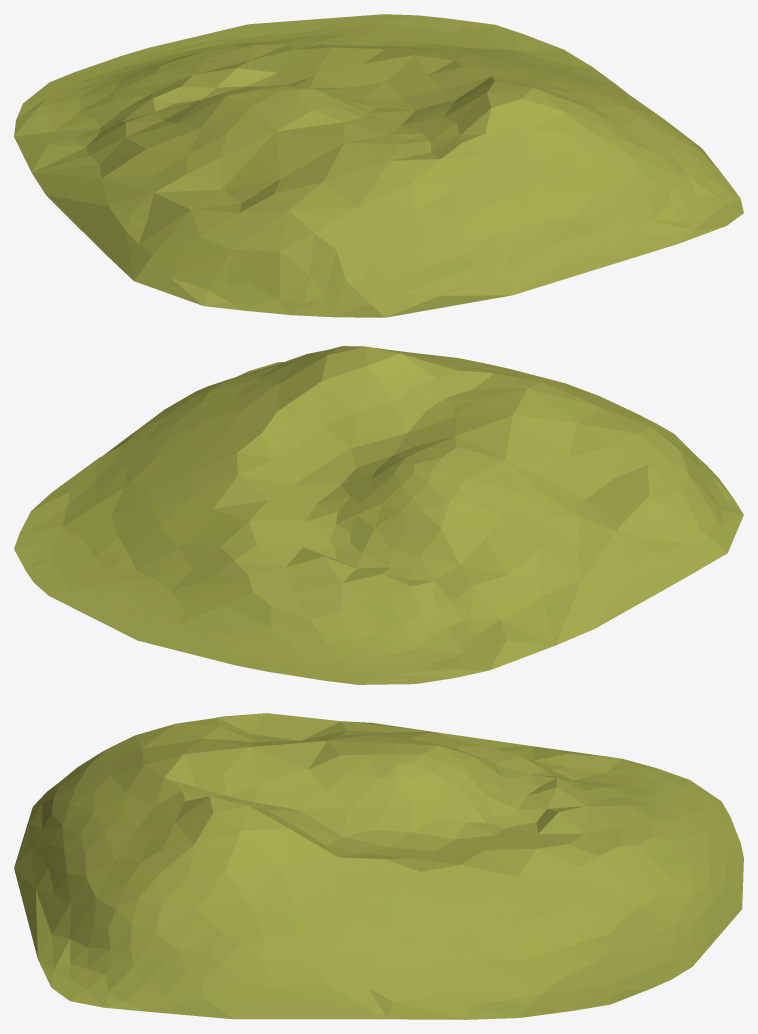
File: Hill_18.glb
3 views of the same model, one above another, from view 1: azimuth 30°, elevation 25°; view 2: azimuth 150°, elevation 25°; view 3: azimuth 270°, elevation 25° (orthographic). The views are drawn at different scales.
Parts seen in each view (by area): view 1: Hill_18; view 2: Hill_18; view 3: Hill_18.
Boxes of the visible parts, bbox=[...] form: Hill_18: bbox=[14, 14, 743, 317]; Hill_18: bbox=[14, 346, 743, 684]; Hill_18: bbox=[14, 713, 743, 1019].
Bounding box in the file's own units: 57.68 × 10.09 × 61.13.
1 material, 1 textured.
